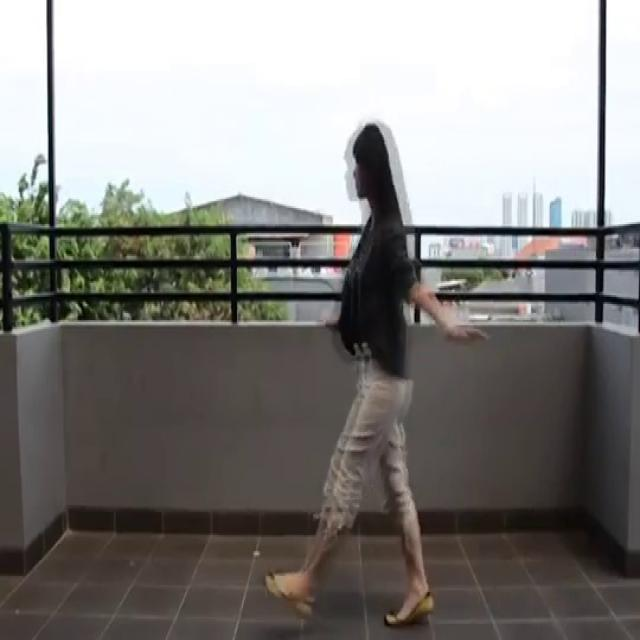normal: (261, 117, 448, 631)
